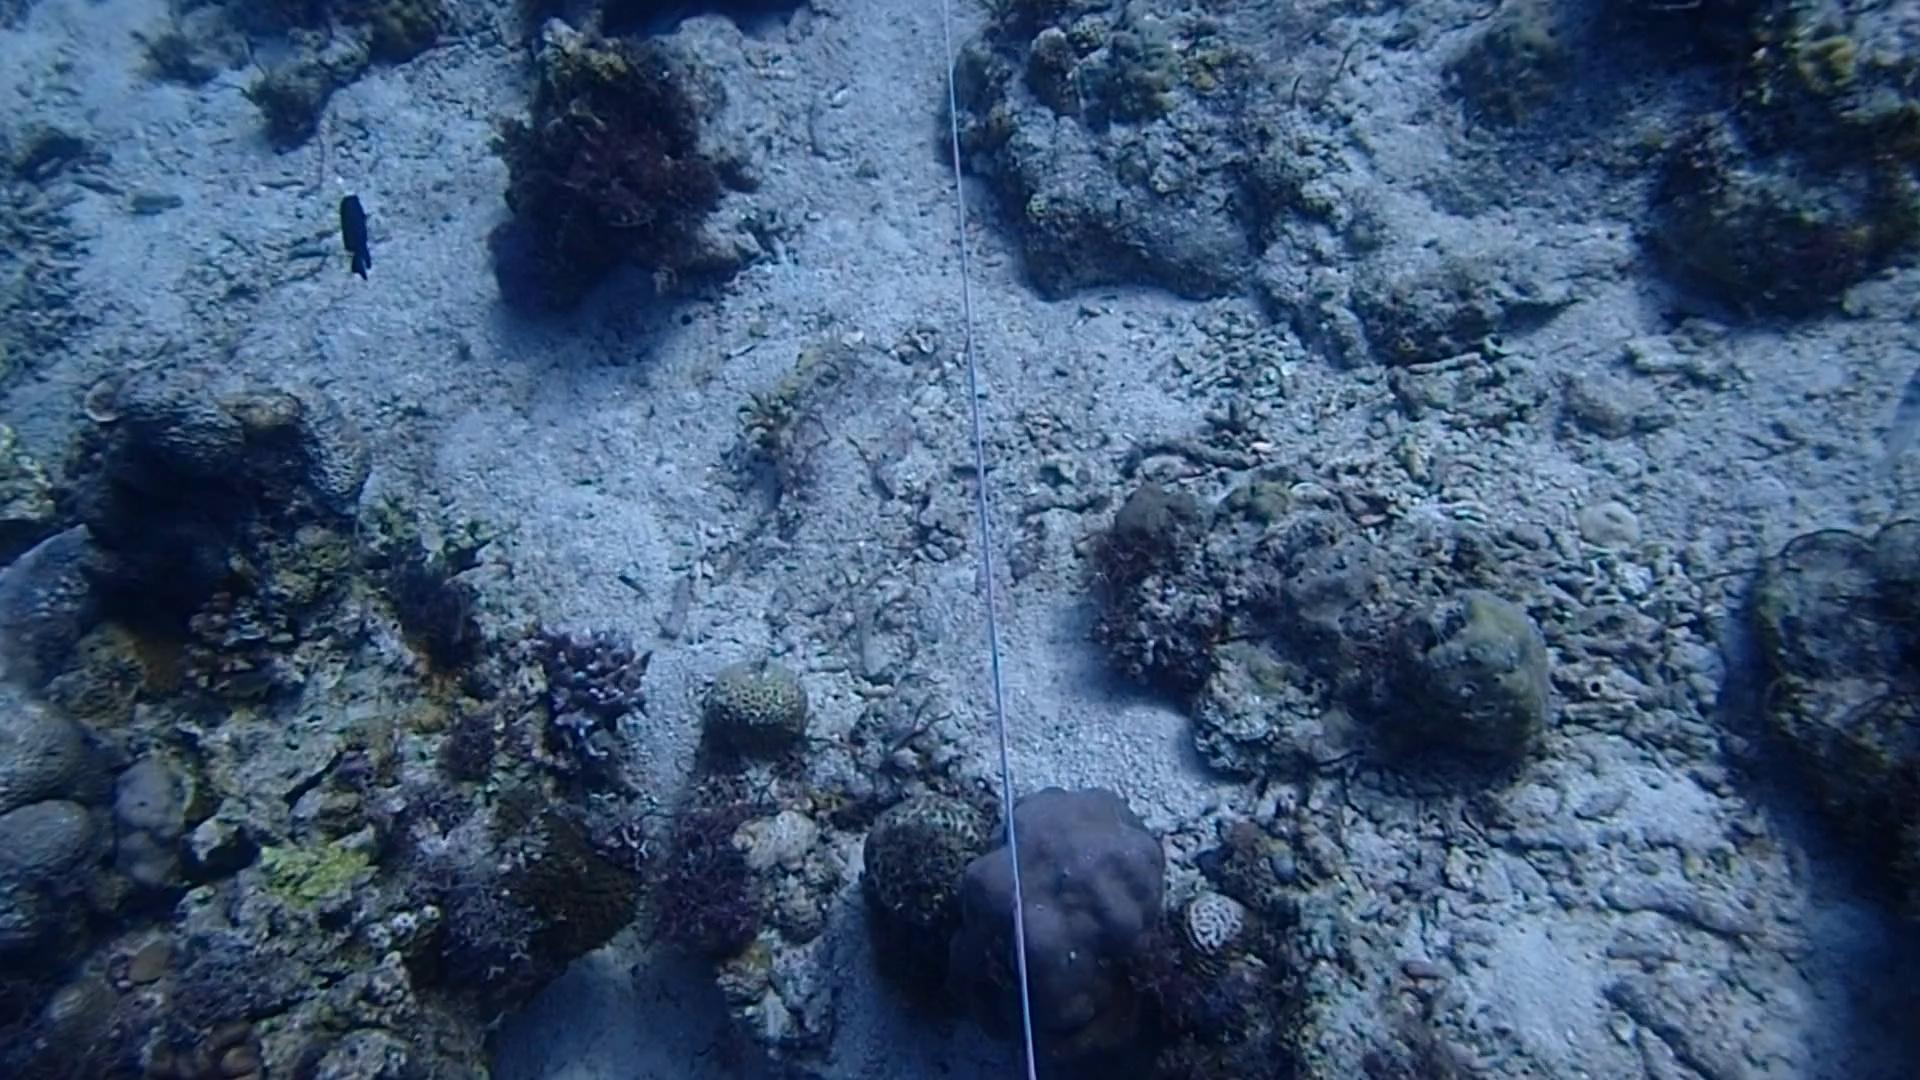Dark Fish: (319, 183, 382, 284)
Light Fish w Back Stripes: (1873, 351, 1920, 481)
